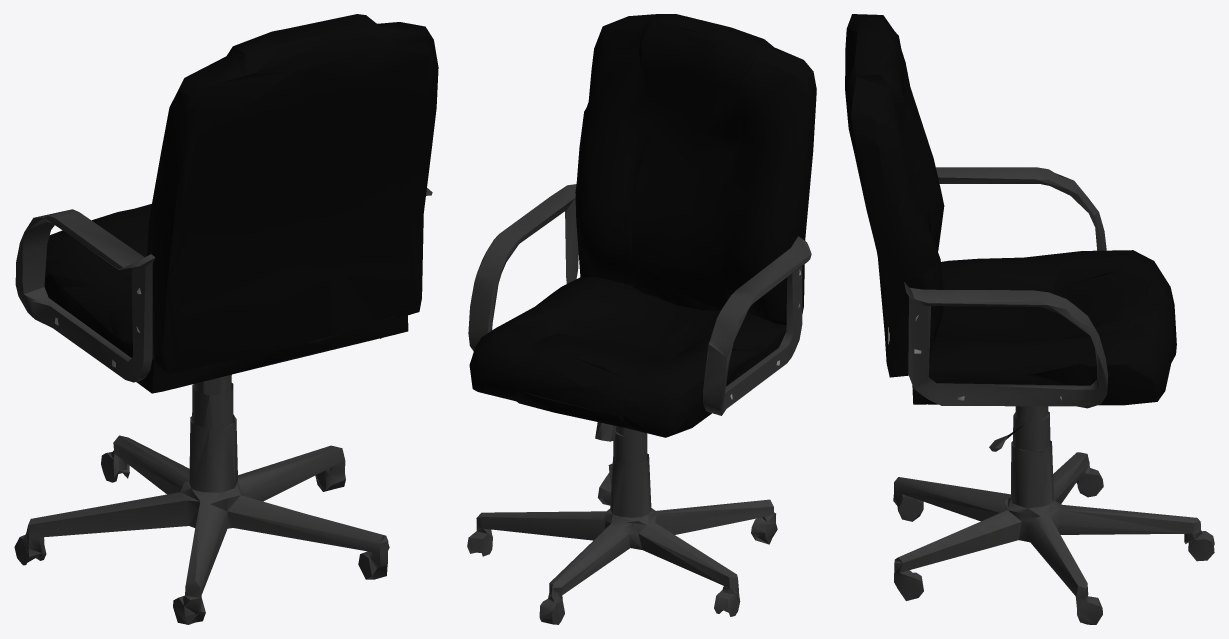
Rendered from simready-office-chair-manager.lite.081fbb4f.glb.
3 renders of one model, left to right at view 1: azimuth 30°, elevation 25°; view 2: azimuth 150°, elevation 25°; view 3: azimuth 270°, elevation 25°, orthographic. The views are drawn at different scales.
Visible parts, largest first — view 1: model; view 2: model; view 3: model.
Part boxes in pixels (x1,y1,x2,y2): model: (14, 14, 438, 624); model: (467, 14, 816, 624); model: (845, 14, 1214, 624).
Bounding box in the file's own units: 0.6141 × 1.08 × 0.7039.
5 materials, 3 textured.
